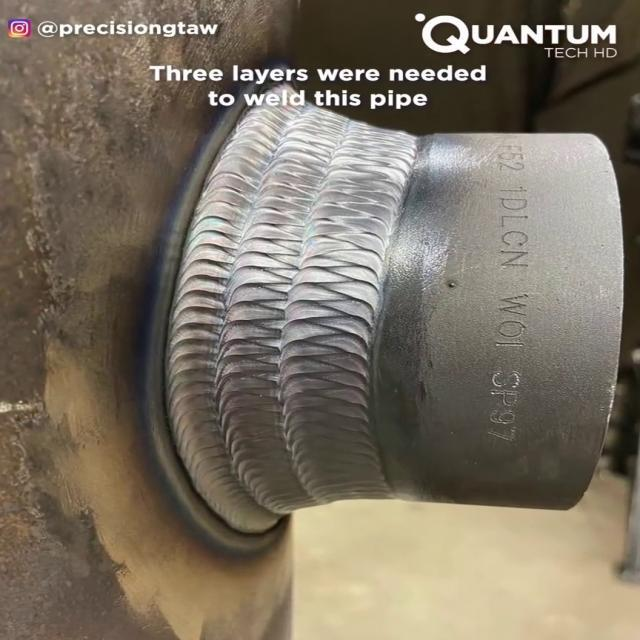Good Weld: (166, 138, 392, 528)
